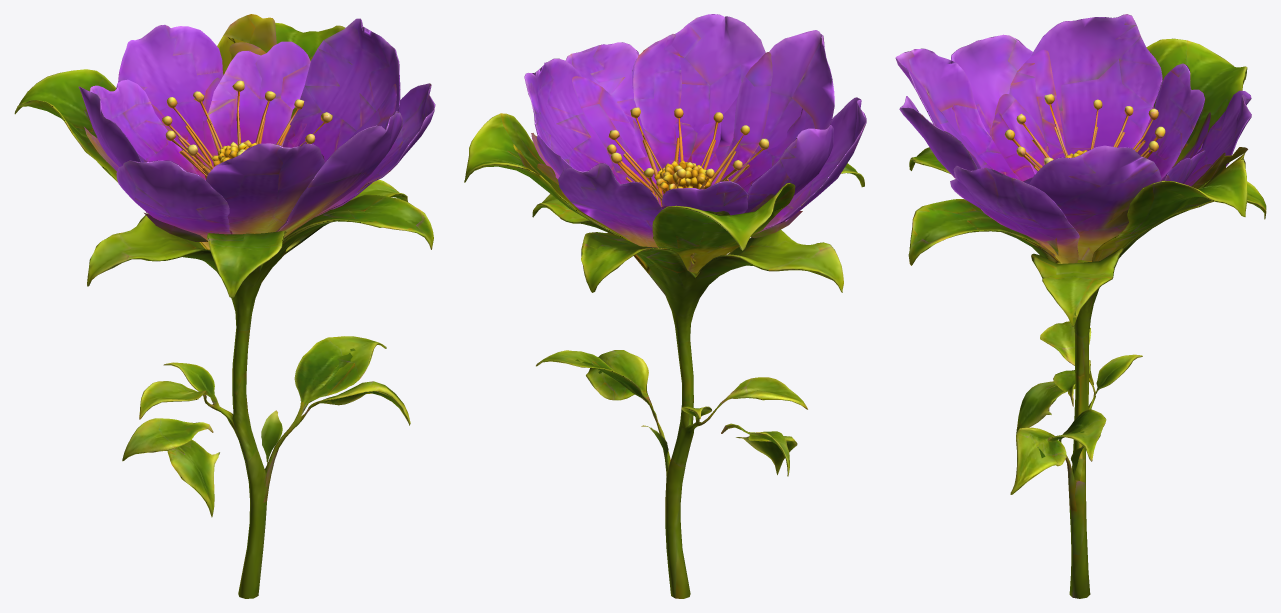
The model's file is peony_purple.glb.
3 renders of one model, left to right at view 1: azimuth 30°, elevation 25°; view 2: azimuth 150°, elevation 25°; view 3: azimuth 270°, elevation 25°, orthographic. The views are drawn at different scales.
Parts seen in each view (by area): view 1: geometry_0; view 2: geometry_0; view 3: geometry_0.
Boxes of the visible parts, left/top/right/bottom form: geometry_0: left=14, top=14, right=435, bottom=598; geometry_0: left=464, top=14, right=866, bottom=598; geometry_0: left=895, top=14, right=1266, bottom=598.
Size of the model in its own units: 0.6064 by 0.9526 by 0.6211.
Materials: 1 (1 with a texture image).
